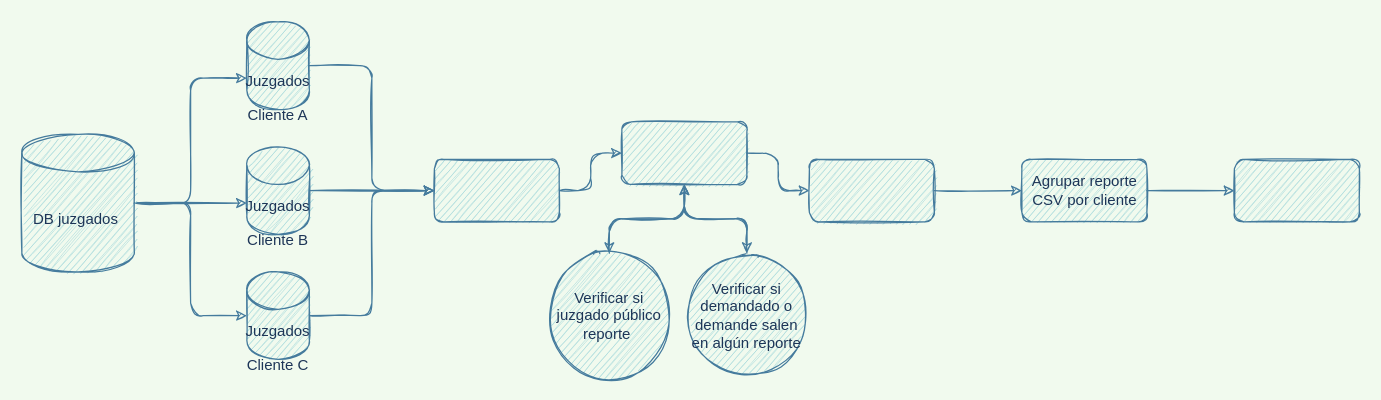
This 1381x400 diagram has some shape labels left out. Each missing label, with the centre of its shape:
Compartir CSV a carpeta cliente o enviar por correo: the point at 1296,190
DB reporte por juzgado: the point at 684,152
Reporte CSV Juzgado: the point at 871,190
Scrap url por Juzgado: the point at 496,190
